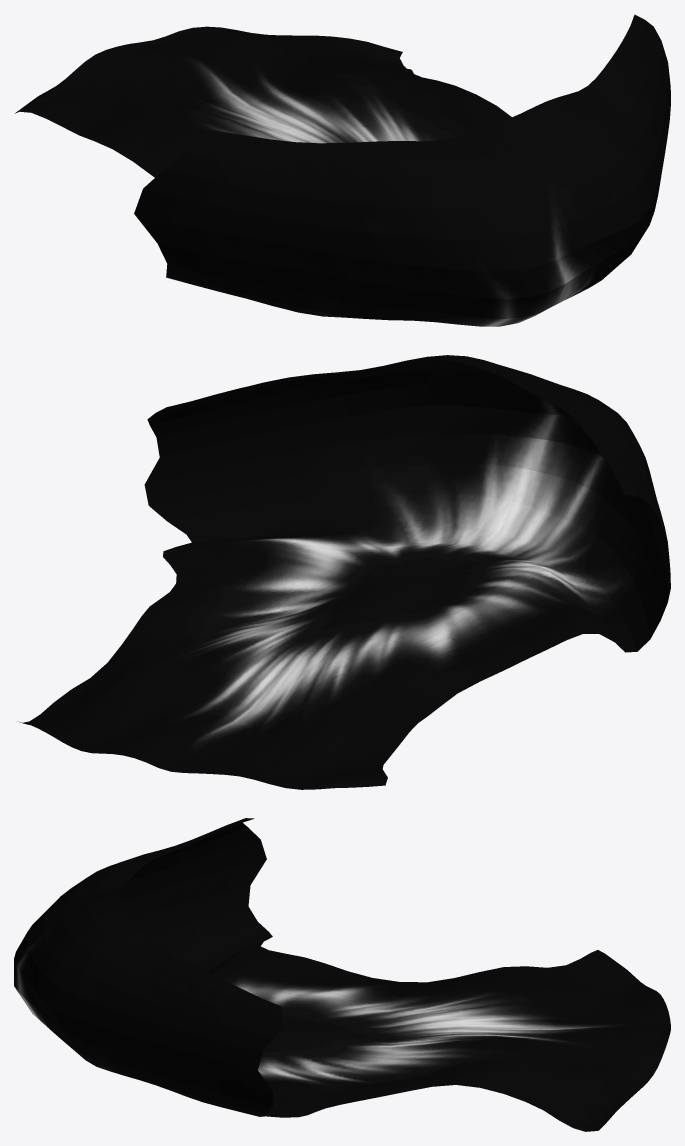
Rendered from 0433_shuilang.glb.
3 renders of one model, top to bottom at view 1: azimuth 30°, elevation 25°; view 2: azimuth 150°, elevation 25°; view 3: azimuth 270°, elevation 25°, orthographic. The views are drawn at different scales.
Bounding box in the file's own units: 1.7 × 0.6067 × 2.2.
1 material, 1 textured.
